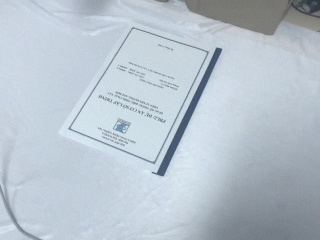box: (181, 1, 296, 36)
